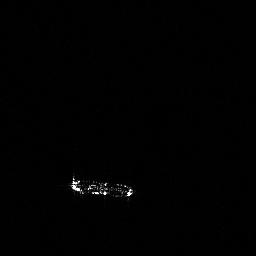ship: (70, 177, 133, 199)
